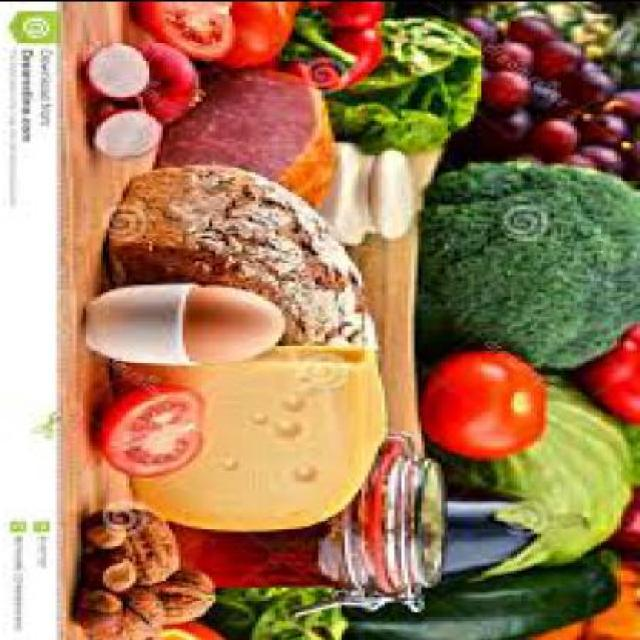BIODEGRADABLE: (113, 344, 392, 528), (106, 162, 382, 344), (420, 149, 638, 365), (452, 366, 636, 562), (159, 66, 341, 208), (345, 554, 623, 638), (328, 10, 488, 147), (422, 344, 550, 454), (169, 503, 345, 582), (468, 2, 638, 83), (448, 486, 594, 577), (103, 378, 209, 474), (278, 2, 389, 88), (186, 281, 292, 359), (116, 37, 209, 120), (219, 580, 352, 638), (574, 320, 638, 418), (210, 1, 308, 64), (145, 1, 243, 54), (112, 508, 183, 580), (140, 567, 222, 621), (92, 585, 170, 638), (96, 104, 170, 154), (90, 39, 156, 93), (594, 562, 638, 638), (600, 480, 638, 560), (484, 105, 544, 147), (535, 32, 590, 73), (76, 586, 126, 626), (90, 549, 142, 586), (488, 34, 537, 71), (531, 115, 580, 148), (574, 66, 620, 100), (86, 508, 129, 544), (494, 68, 537, 102), (581, 110, 630, 139), (584, 142, 633, 170), (610, 83, 638, 131), (541, 610, 587, 638), (162, 620, 228, 638), (464, 12, 508, 39), (511, 15, 560, 39), (537, 76, 571, 107), (550, 95, 590, 120), (557, 151, 597, 166), (584, 54, 610, 71), (632, 418, 638, 482)
GLASS: (176, 429, 455, 611)
